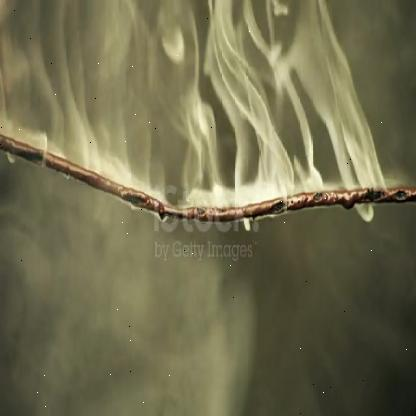smoke: (0, 0, 396, 416)
